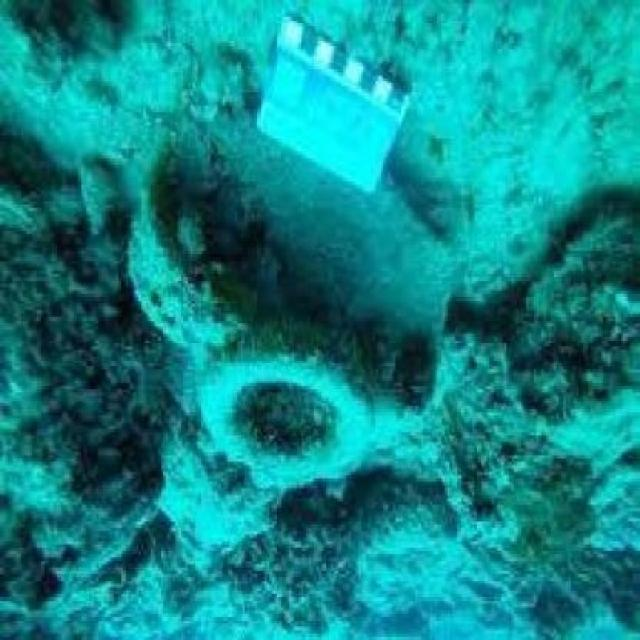tire: (200, 284, 412, 514)
